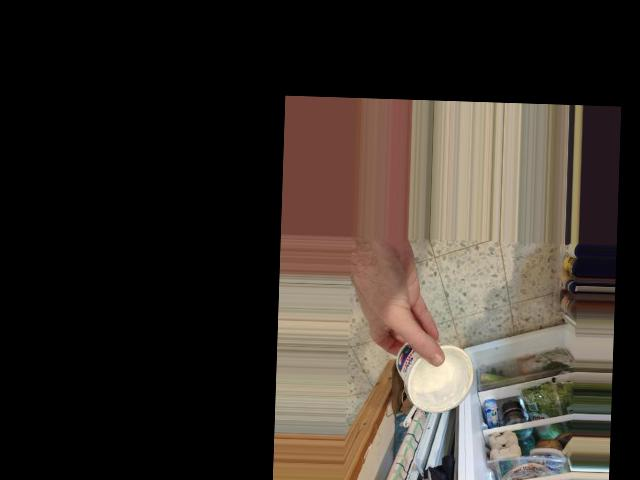cotage: (390, 337, 475, 417)
